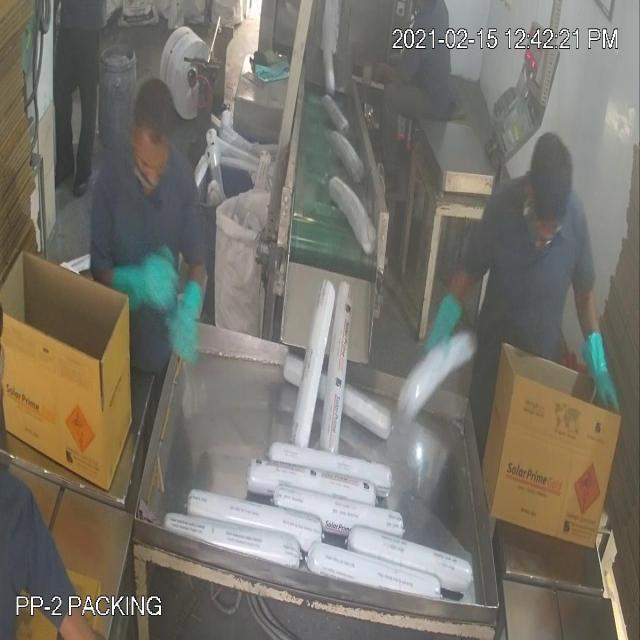gloves: (114, 238, 176, 326), (578, 310, 624, 428), (421, 278, 469, 376), (161, 264, 205, 367)
no-gloves: (365, 53, 415, 103)
